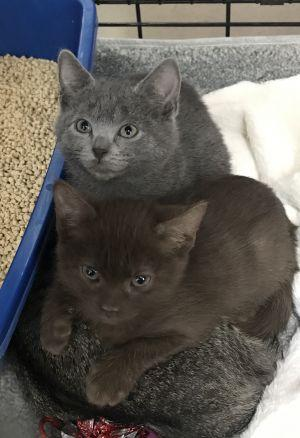rblue: (44, 39, 191, 198)
